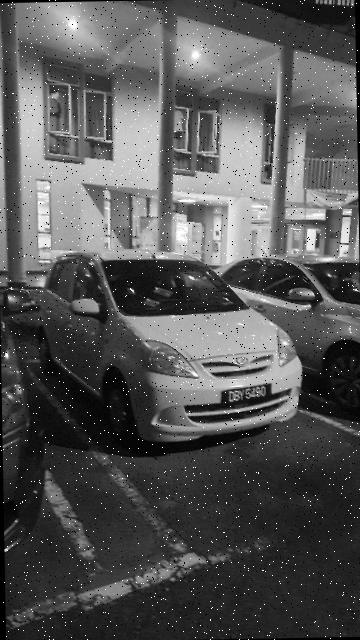License_Plate: (219, 381, 274, 407)
car: (33, 246, 306, 452)
